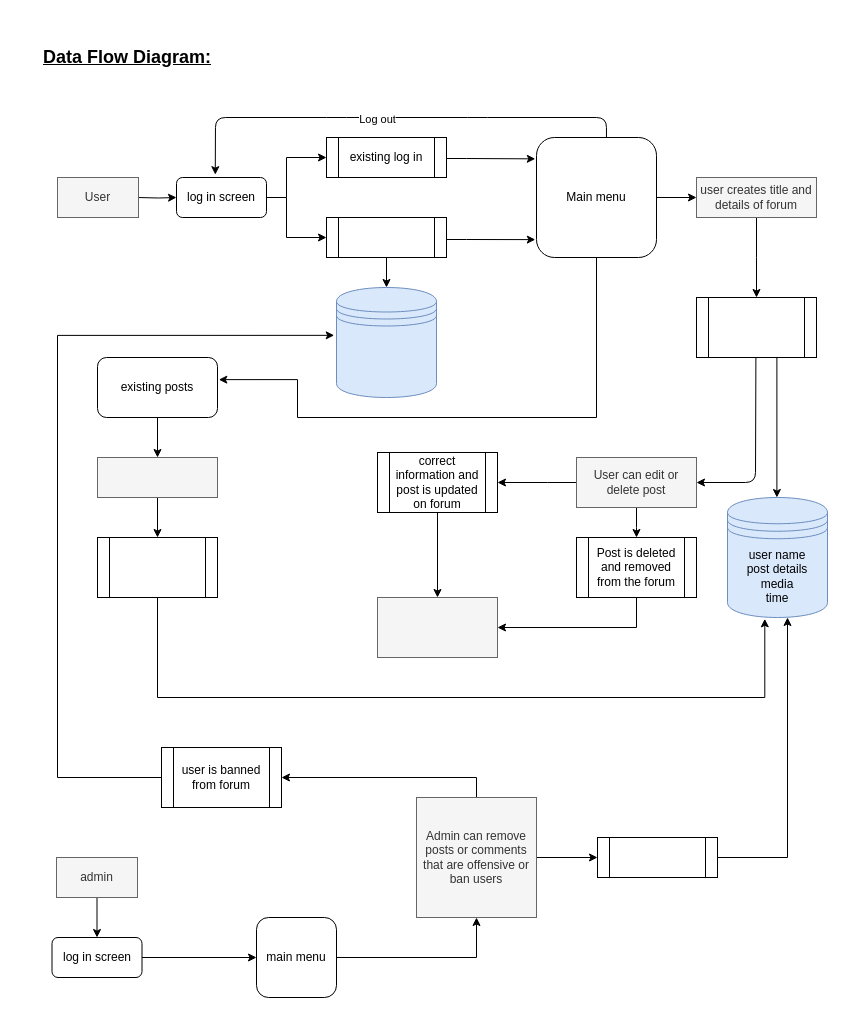
Some shapes in this 845 by 1015 pixel diagram are drawn without their labels. Each missing label, with the centre of its shape:
"comment is added under original post" goes at pixel 157 567.
"Create new log in" goes at pixel 386 237.
"email username password" goes at pixel 386 342.
"post is removed from forum" goes at pixel 657 857.
"title and details are posted to the forum" goes at pixel 756 327.
"user can comment on existing posts" goes at pixel 157 477.
"user is redirected to the main menu" goes at pixel 437 627.
